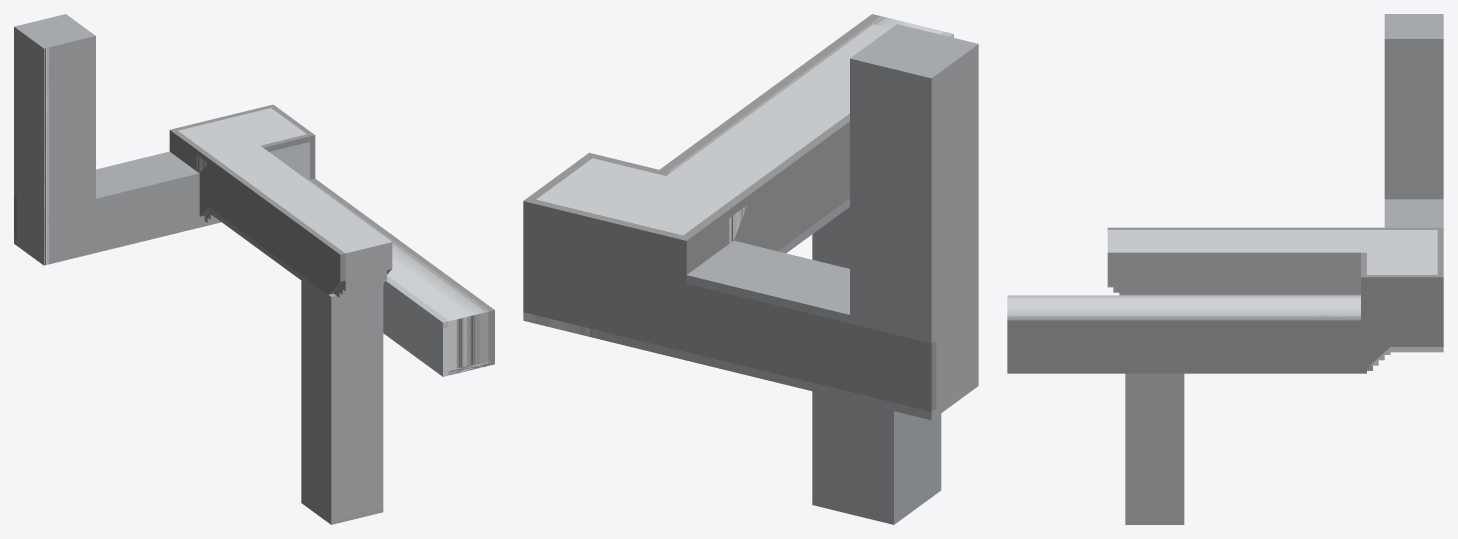
The model's file is map.obj.
3 views of the same model, side by side, from view 1: azimuth 30°, elevation 25°; view 2: azimuth 150°, elevation 25°; view 3: azimuth 270°, elevation 25° (orthographic). The views are drawn at different scales.
Visible parts, largest first — view 1: 立方体; view 2: 立方体; view 3: 立方体.
Boxes of the visible parts, left/top/right/bottom form: 立方体: left=14, top=14, right=494, bottom=524; 立方体: left=523, top=14, right=978, bottom=524; 立方体: left=1007, top=14, right=1443, bottom=524.
Bounding box in the file's own units: 50 × 77 × 74.
Materials: 1 (1 with a texture image).
